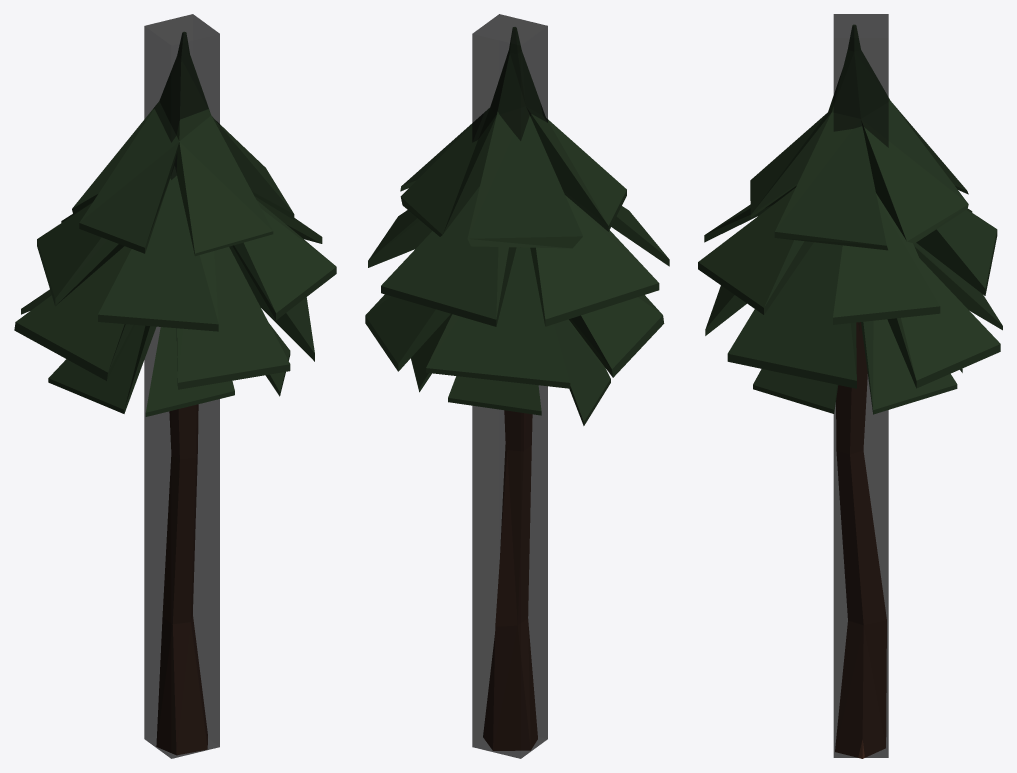
The model's file is PineTree.fbx.
3 views of the same model, side by side, from view 1: azimuth 30°, elevation 25°; view 2: azimuth 150°, elevation 25°; view 3: azimuth 270°, elevation 25° (orthographic).
Parts seen in each view (by area): view 1: Pine_Tree, Pine_Tree_BBox; view 2: Pine_Tree, Pine_Tree_BBox; view 3: Pine_Tree, Pine_Tree_BBox.
Part boxes in pixels (<box>): Pine_Tree: <box>14,32,336,755</box>; Pine_Tree_BBox: <box>144,14,219,758</box>; Pine_Tree: <box>365,27,669,750</box>; Pine_Tree_BBox: <box>472,14,547,758</box>; Pine_Tree: <box>698,24,1002,758</box>; Pine_Tree_BBox: <box>833,14,888,757</box>.
Bounding box in the file's own units: 15.11 × 39 × 14.96.
2 materials, 1 textured.
